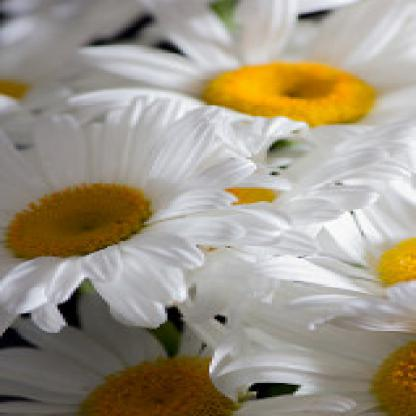ASTER: (4, 13, 394, 407)
